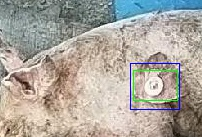text: (133, 70, 177, 100)
